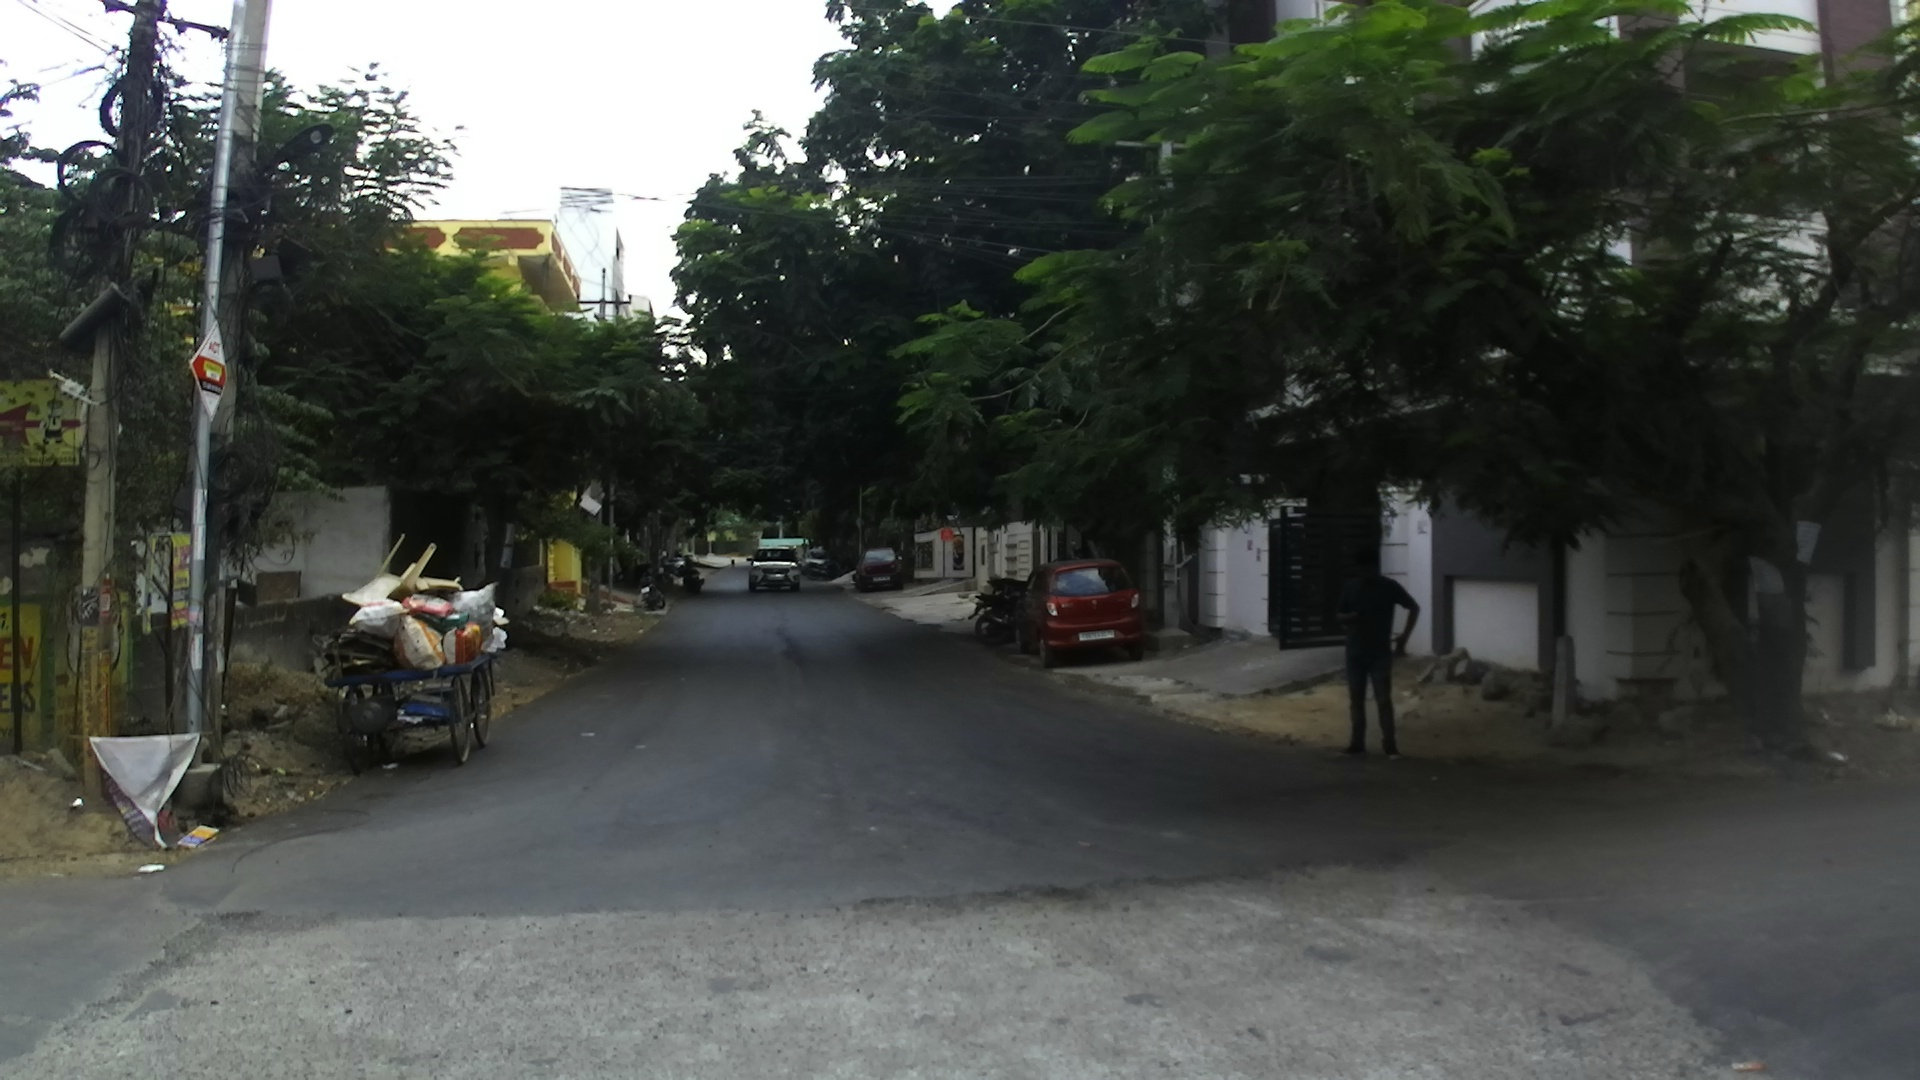vehicle: (1025, 559, 1149, 666), (750, 535, 807, 588), (851, 549, 905, 589)
